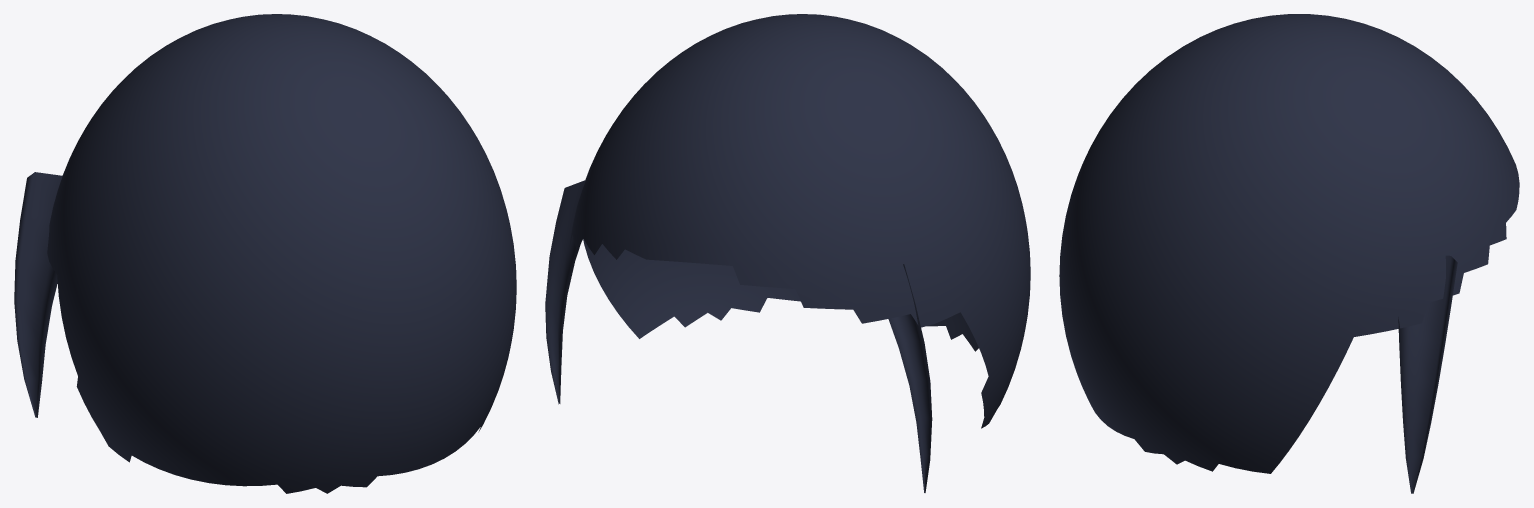
The model's file is anime_hair_elda.glb.
3 views of the same model, side by side, from view 1: azimuth 30°, elevation 25°; view 2: azimuth 150°, elevation 25°; view 3: azimuth 270°, elevation 25° (orthographic). The views are drawn at different scales.
Visible parts, largest first — view 1: hair_cap, hair; view 2: hair_cap, hair; view 3: hair_cap, hair.
Boxes of the visible parts, left/top/right/bottom form: hair_cap: left=47, top=14, right=516, bottom=493; hair: left=14, top=172, right=62, bottom=417; hair_cap: left=569, top=14, right=1030, bottom=428; hair: left=545, top=180, right=932, bottom=492; hair_cap: left=1059, top=14, right=1519, bottom=473; hair: left=1398, top=255, right=1457, bottom=493.
Bounding box in the file's own units: 0.282 × 0.2541 × 0.2842.
